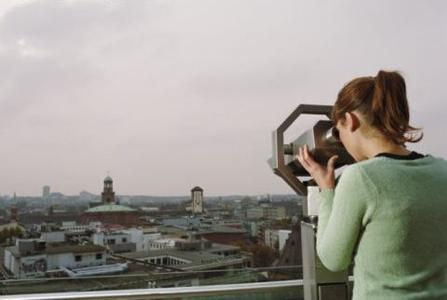person: (296, 71, 445, 300)
